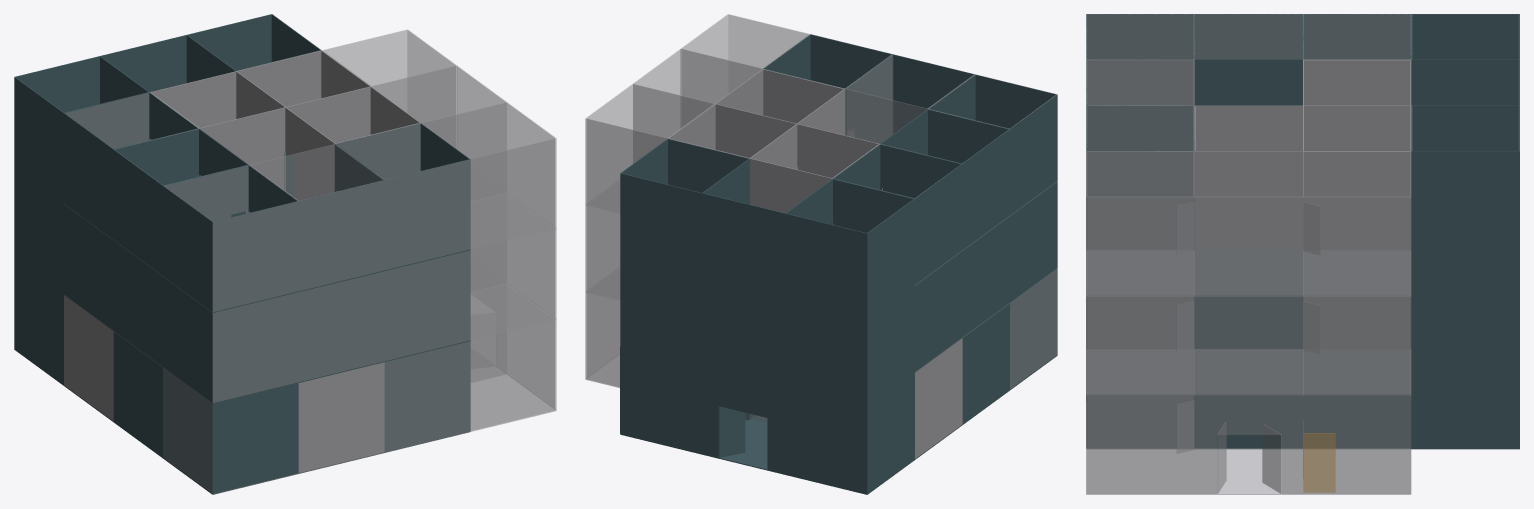
Rendered from 第十三组.glb.
3 renders of one model, left to right at view 1: azimuth 30°, elevation 25°; view 2: azimuth 150°, elevation 25°; view 3: azimuth 270°, elevation 25°, orthographic. The views are drawn at different scales.
Bounding box in the file's own units: 0.02 × 0.0151 × 0.02.
